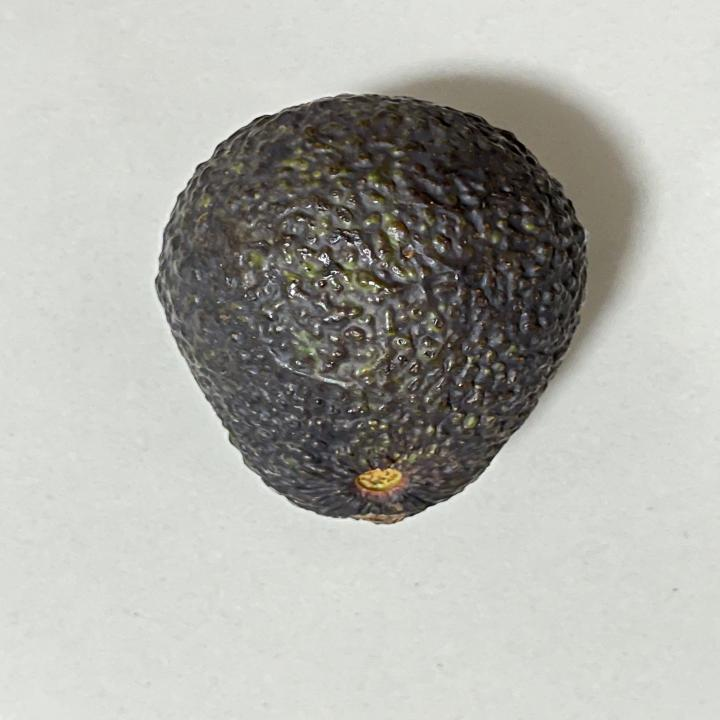Level2: (152, 90, 598, 534)
